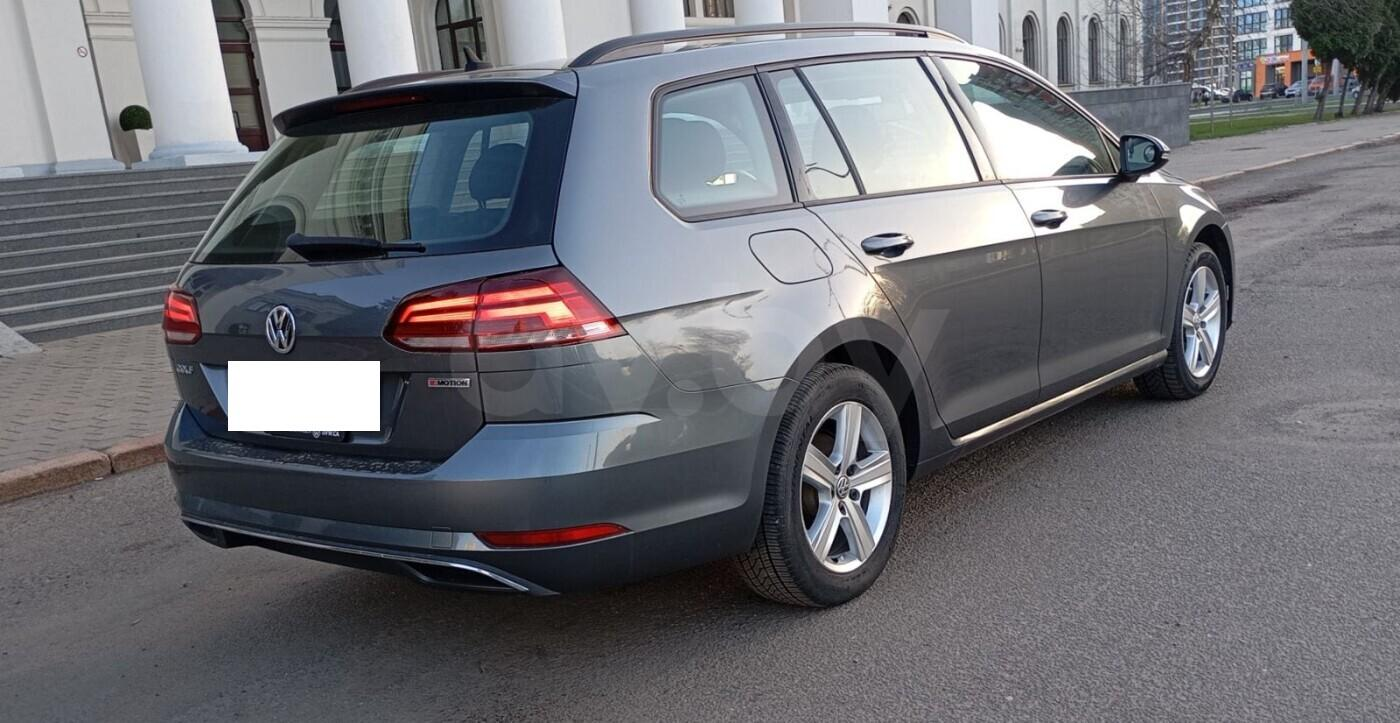Golf_2017-2021: (149, 26, 1249, 614)
